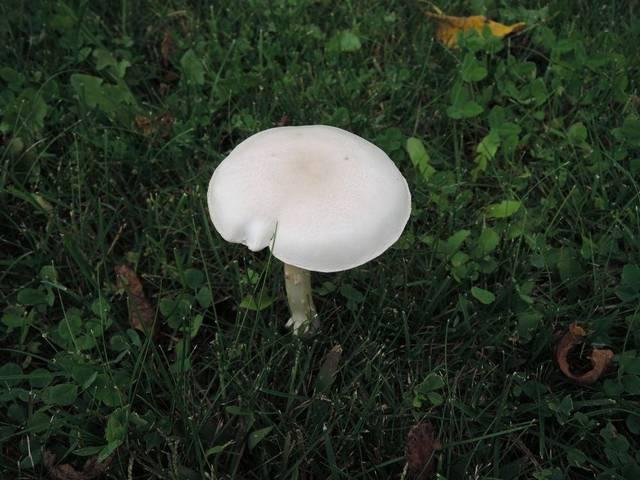poisonous_mushroom: (205, 123, 412, 339)
